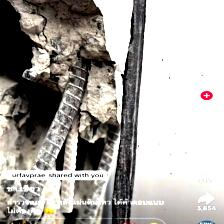High: (1, 1, 150, 169)
